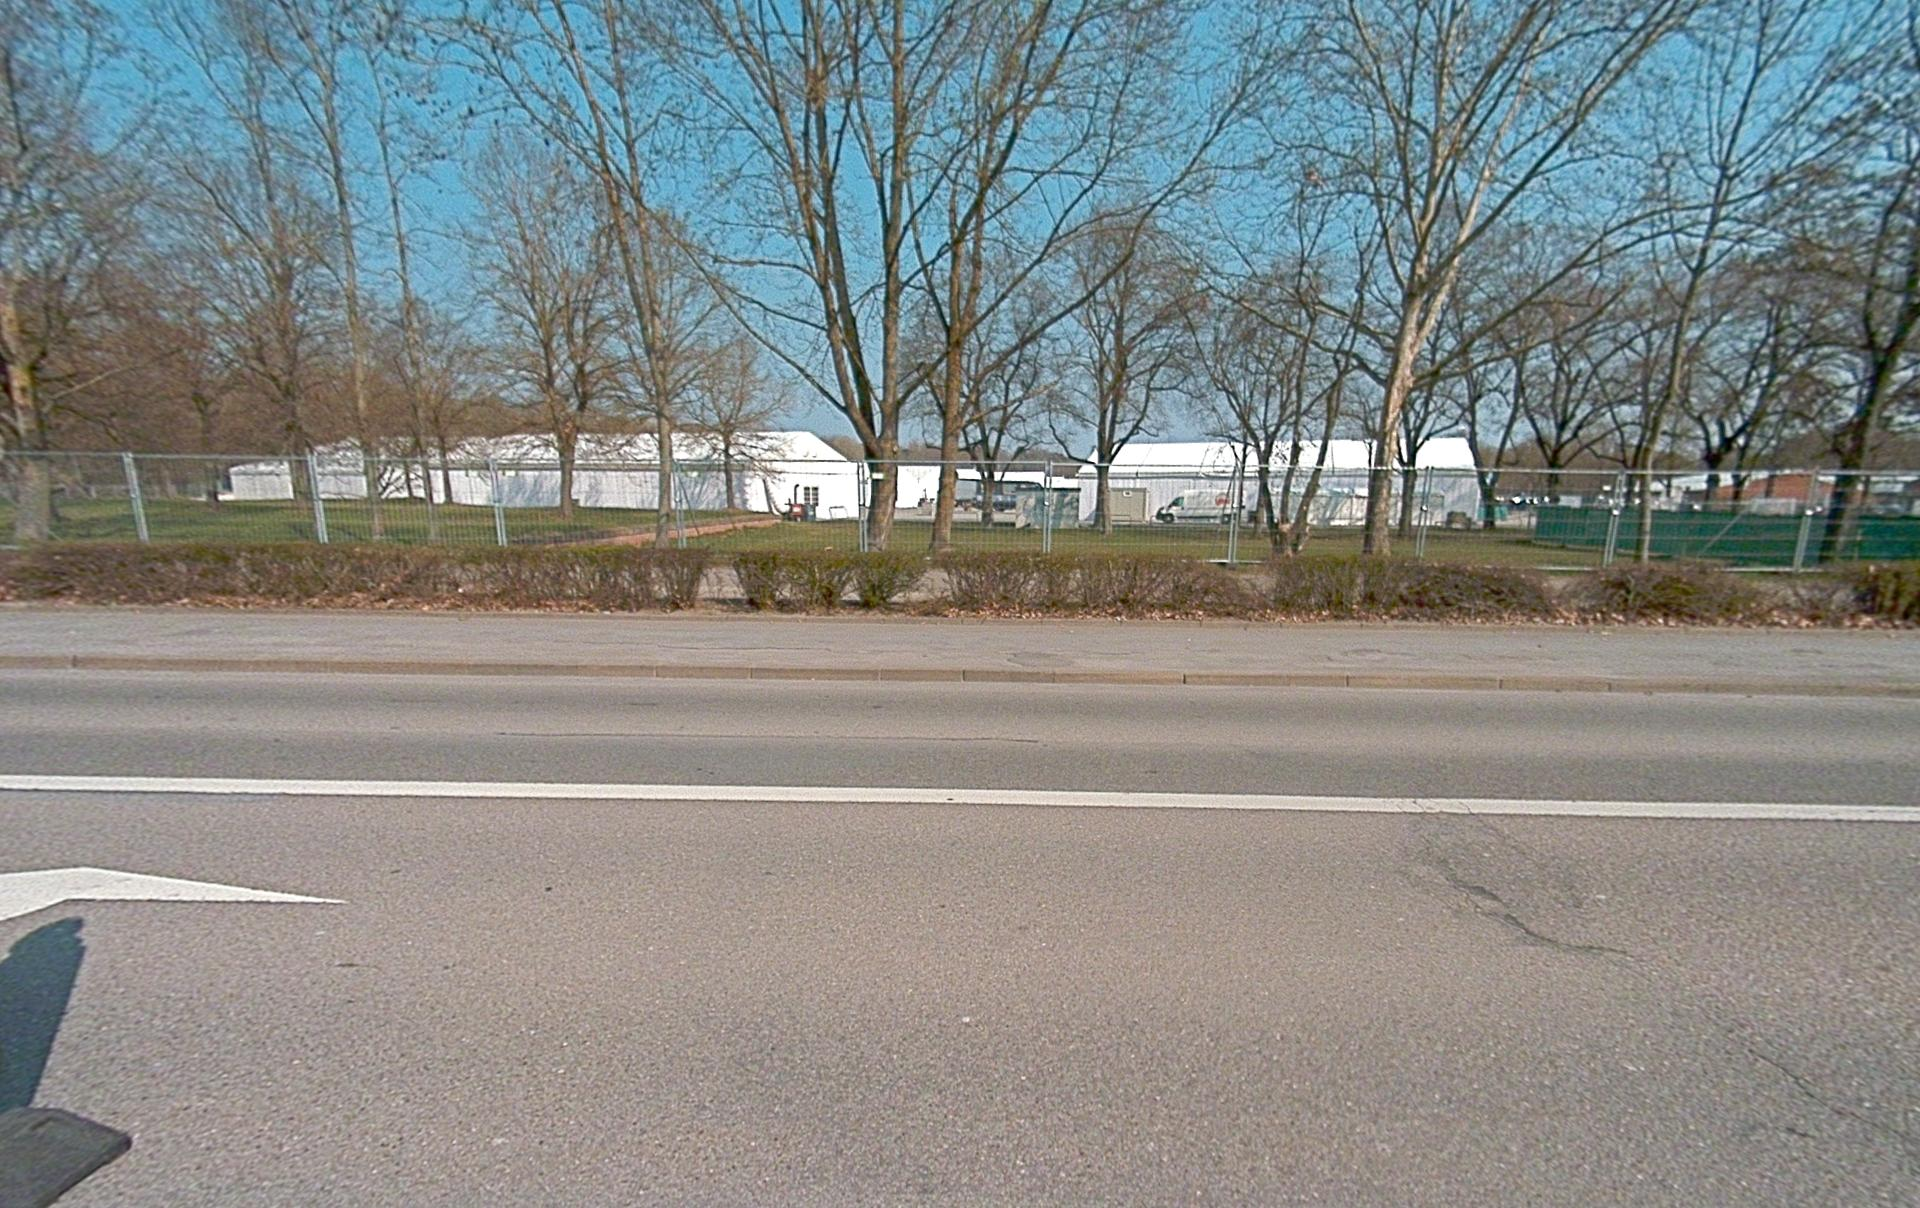car: (1155, 489, 1257, 524)
